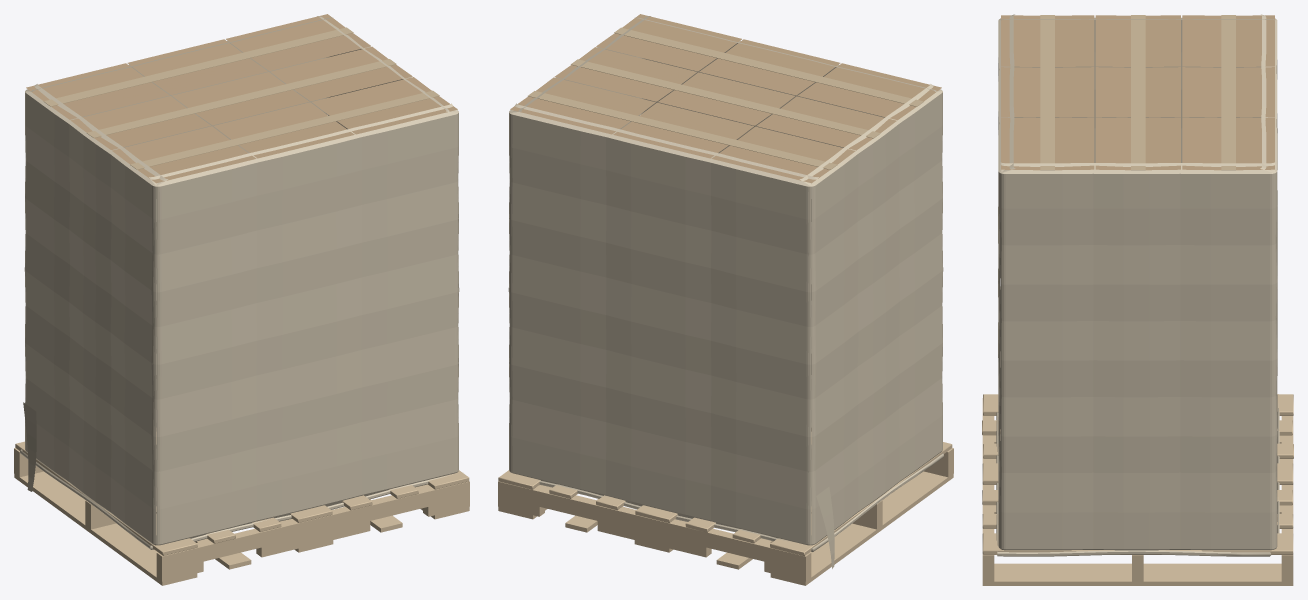
File: Kit_PalletLoad_Wrapped_High.fbx
3 renders of one model, left to right at view 1: azimuth 30°, elevation 25°; view 2: azimuth 150°, elevation 25°; view 3: azimuth 270°, elevation 25°, orthographic. The views are drawn at different scales.
Visible parts, largest first — view 1: Kit_PalletLoad_Wrapped_High_LOD0; view 2: Kit_PalletLoad_Wrapped_High_LOD0; view 3: Kit_PalletLoad_Wrapped_High_LOD0.
Part boxes in pixels (<box>): Kit_PalletLoad_Wrapped_High_LOD0: <box>14,14,469,585</box>; Kit_PalletLoad_Wrapped_High_LOD0: <box>498,14,953,585</box>; Kit_PalletLoad_Wrapped_High_LOD0: <box>982,14,1293,585</box>.
Size of what is drawn, in the model's own units: 1.25 by 1.5 by 1.02.
